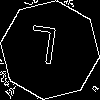L: (25, 25, 59, 74)
